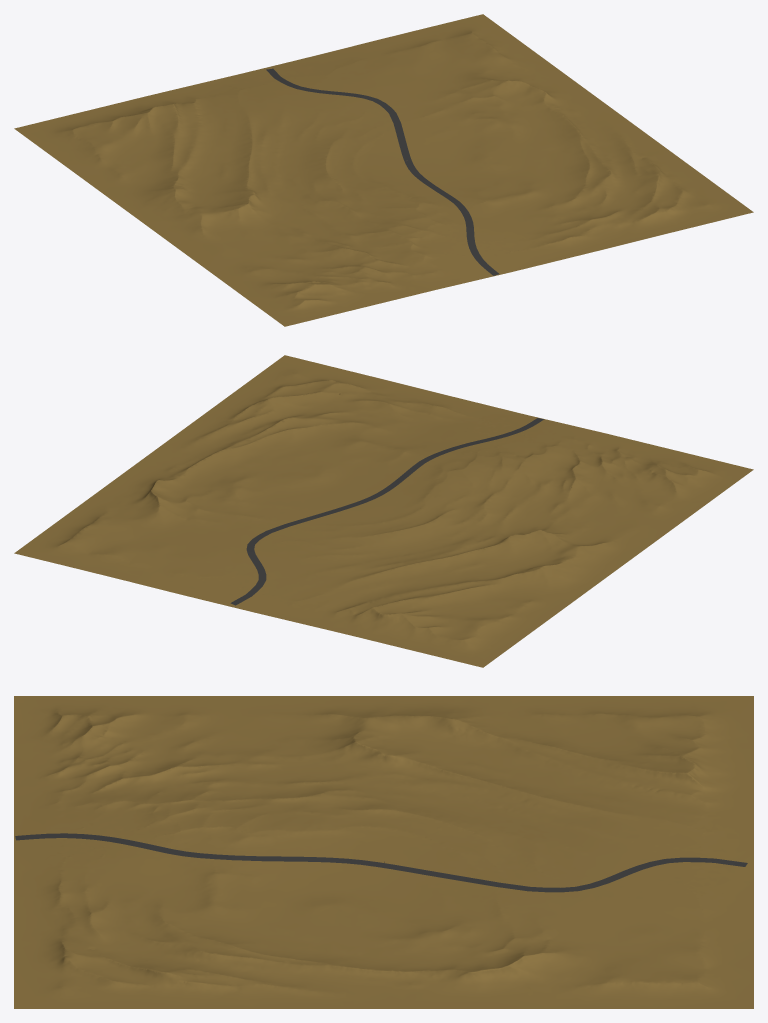
Rendered from map_checkpoint.glb.
3 views of the same model, one above another, from view 1: azimuth 30°, elevation 25°; view 2: azimuth 150°, elevation 25°; view 3: azimuth 270°, elevation 25° (orthographic). The views are drawn at different scales.
Parts seen in each view (by area): view 1: Sand_Dune, Cube; view 2: Sand_Dune, Cube; view 3: Sand_Dune, Cube.
Part boxes in pixels (x1,y1,x2,y2): Sand_Dune: [14, 14, 753, 326]; Cube: [266, 68, 498, 275]; Sand_Dune: [14, 355, 753, 667]; Cube: [230, 418, 543, 605]; Sand_Dune: [14, 696, 753, 1008]; Cube: [15, 833, 747, 892].
Bounding box in the file's own units: 90.76 × 1.93 × 90.76.
